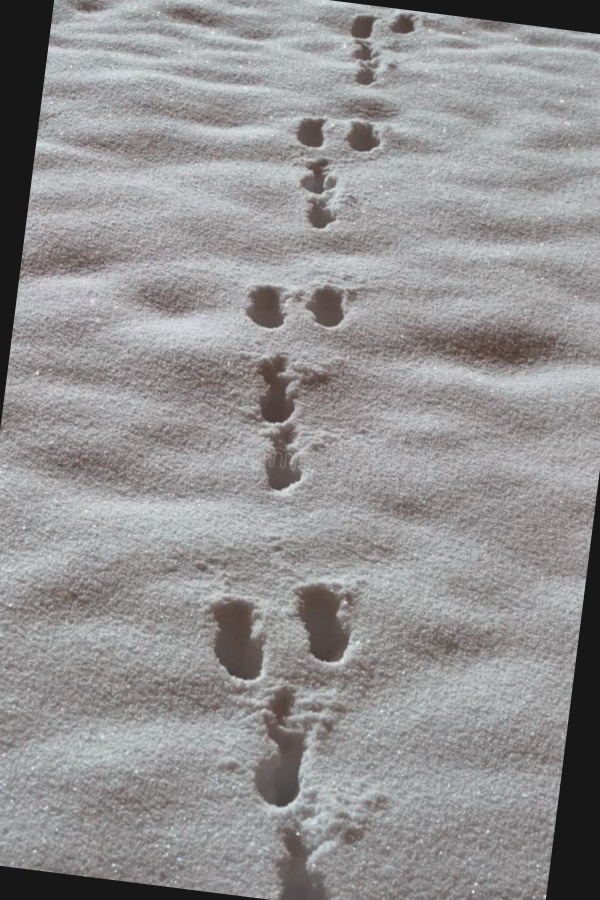lapin: (246, 97, 358, 232), (235, 352, 316, 507), (310, 562, 390, 675), (291, 677, 354, 819), (317, 803, 406, 900), (225, 585, 299, 701), (287, 3, 365, 82), (212, 277, 273, 352), (281, 271, 340, 334)
